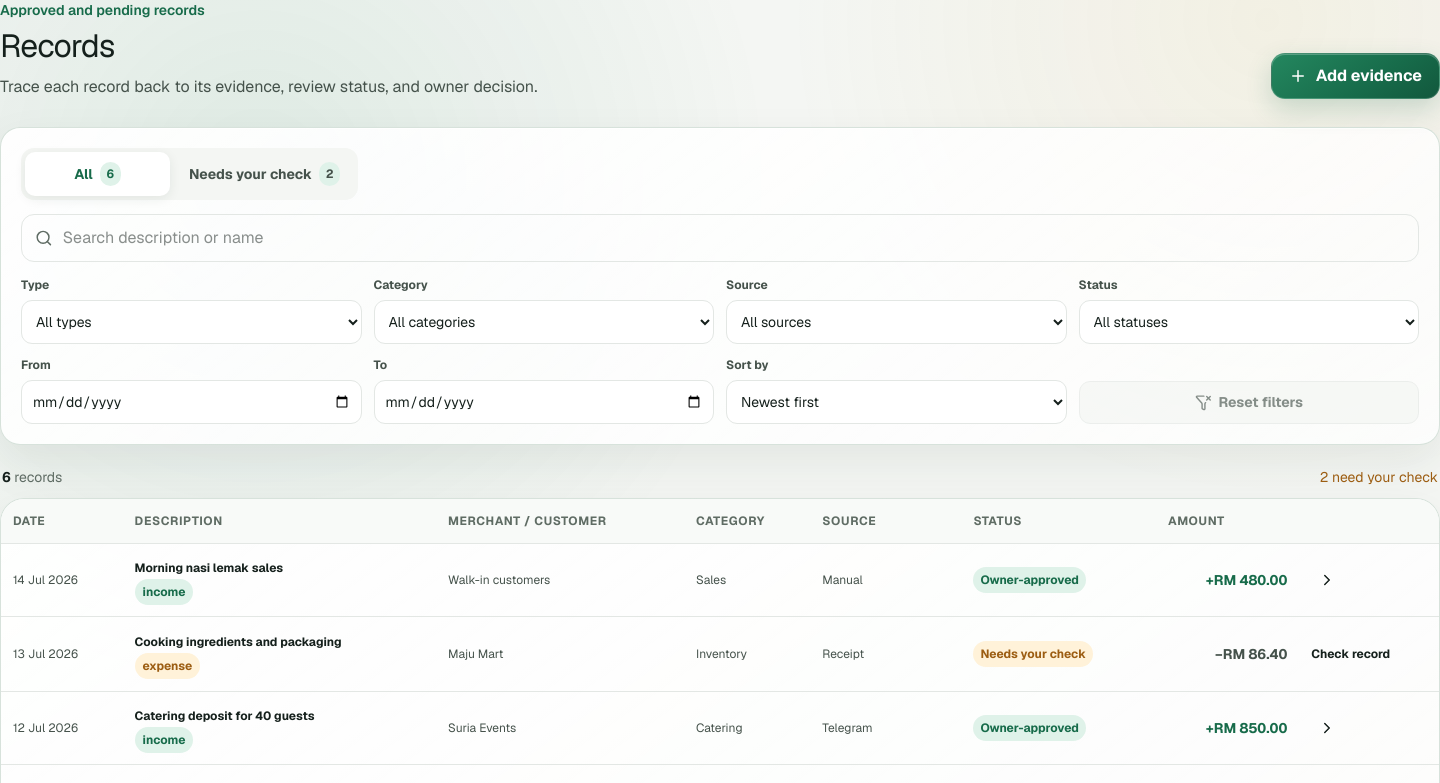
Test: TransactionList › seeds demo records and filters by search
Expected: the text "Morning nasi lemak sales" is shown, [135,560,283,576]
Type "Suria Events" into the search field with placeholder "Search description or name" at (734, 238), box [63,216,1405,260]
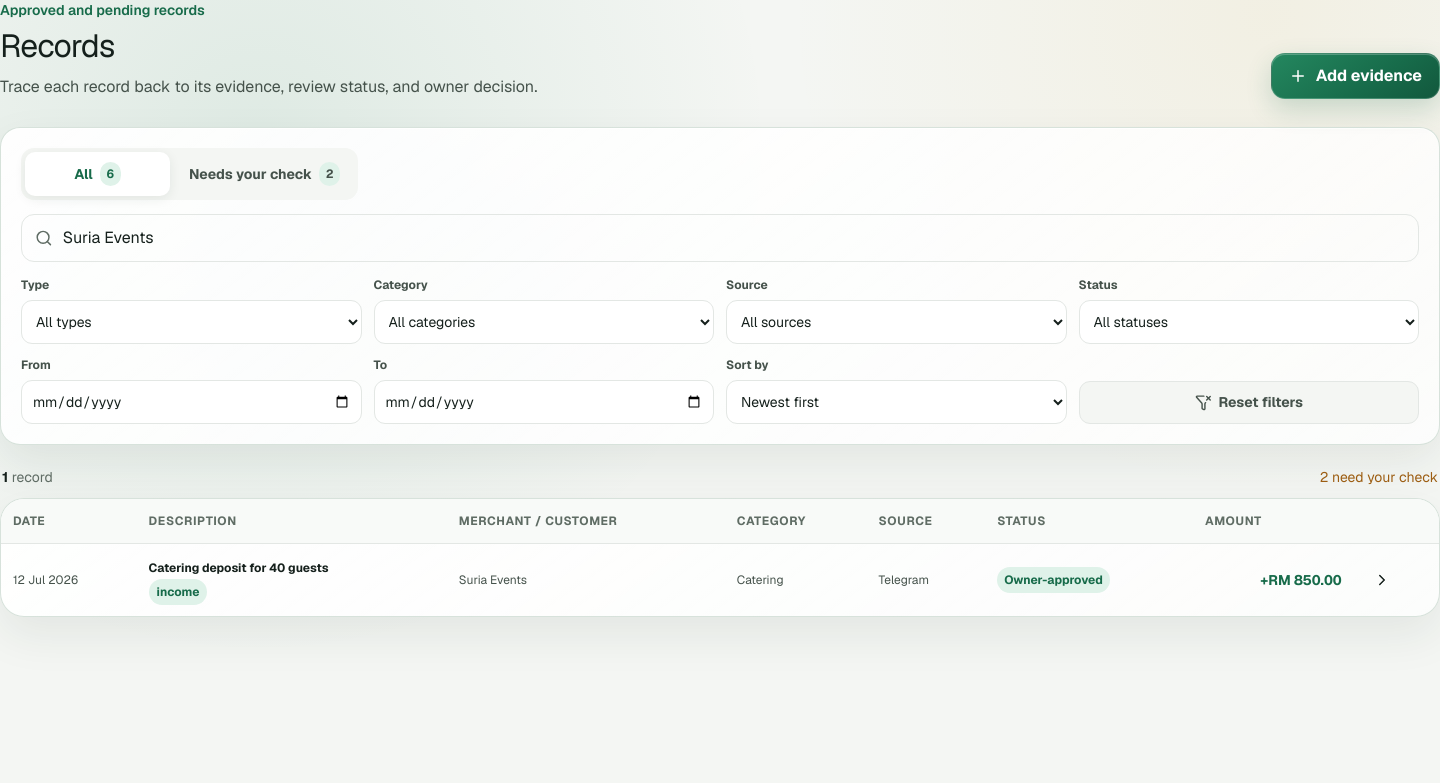
Expected: the text "Catering deposit for 40 guests" is shown, [149,560,328,576]
Expected: the link "Morning nasi lemak sales" is gone
